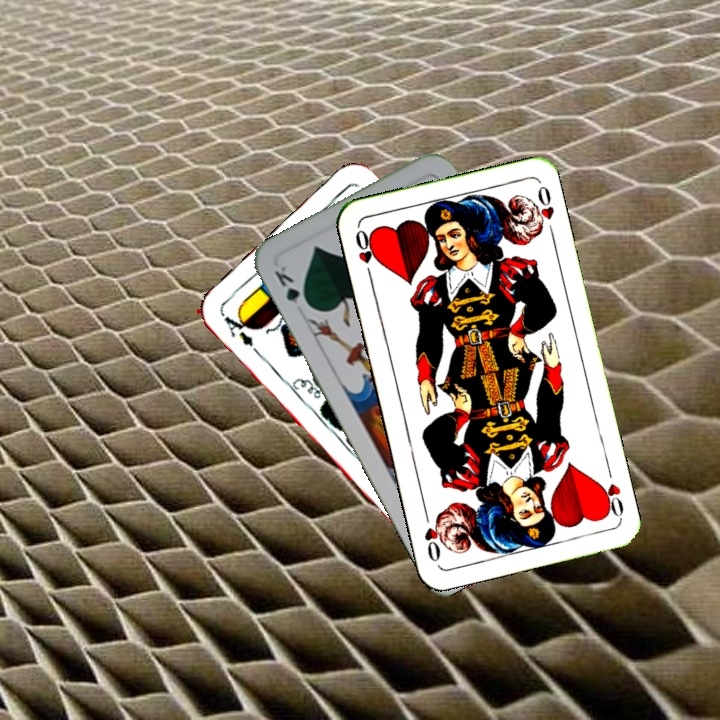EA: (218, 309, 264, 359)
GK: (270, 260, 313, 311)
HO: (595, 463, 626, 521), (351, 225, 379, 282)
